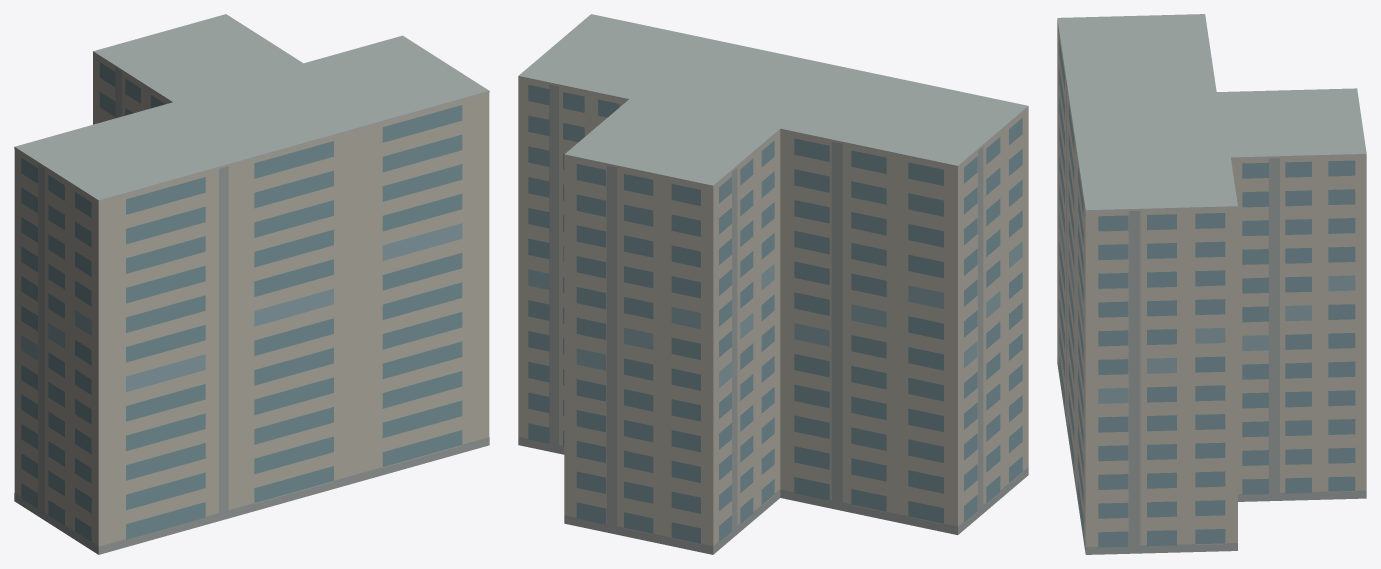
The model's file is residential-f45aa826-a7ee-4b3b-8d0e-198beb589853.glb.
3 views of the same model, side by side, from view 1: azimuth 30°, elevation 25°; view 2: azimuth 150°, elevation 25°; view 3: azimuth 270°, elevation 25° (orthographic). The views are drawn at different scales.
Visible parts, largest first — view 1: residential-f45aa826-a7ee-4b3b-8d0e-198beb589853.tmp; view 2: residential-f45aa826-a7ee-4b3b-8d0e-198beb589853.tmp; view 3: residential-f45aa826-a7ee-4b3b-8d0e-198beb589853.tmp.
Boxes of the visible parts, bbox=[...] form: residential-f45aa826-a7ee-4b3b-8d0e-198beb589853.tmp: bbox=[14, 14, 489, 554]; residential-f45aa826-a7ee-4b3b-8d0e-198beb589853.tmp: bbox=[518, 14, 1028, 554]; residential-f45aa826-a7ee-4b3b-8d0e-198beb589853.tmp: bbox=[1057, 14, 1366, 554].
Bounding box in the file's own units: 48.84 × 40 × 32.55.
